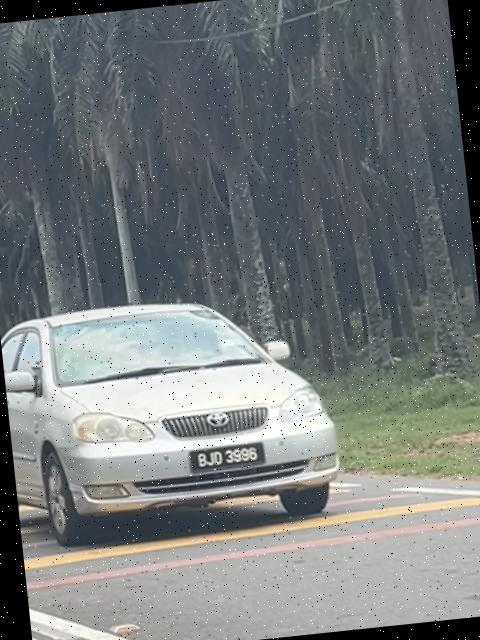License_Plate: (189, 443, 272, 482)
car: (2, 276, 346, 552)
